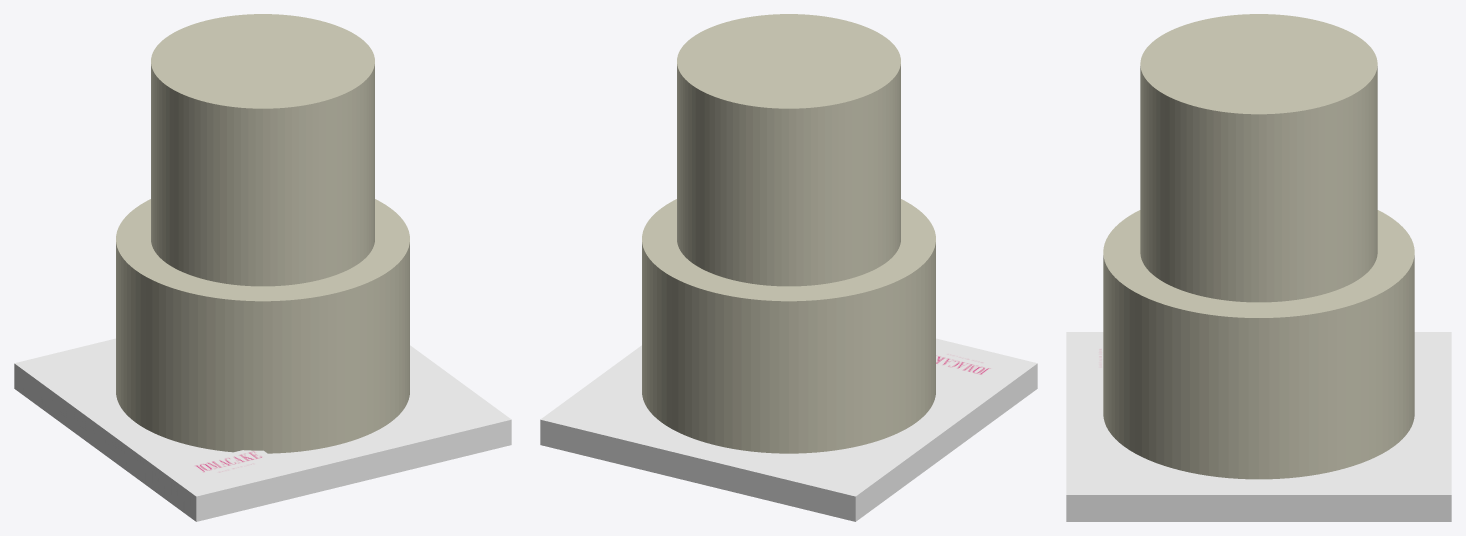
The model's file is cake_tier2_8-6_layers3_v34.glb.
3 renders of one model, left to right at view 1: azimuth 30°, elevation 25°; view 2: azimuth 150°, elevation 25°; view 3: azimuth 270°, elevation 25°, orthographic. The views are drawn at different scales.
Visible parts, largest first — view 1: Tier1, Tier0, Board, Logo; view 2: Tier1, Tier0, Board, Logo; view 3: Tier1, Tier0, Board, Logo.
Part boxes in pixels (bbox=[...]): Tier1: bbox=[151, 14, 374, 286]; Tier0: bbox=[116, 199, 409, 453]; Board: bbox=[14, 338, 511, 521]; Logo: bbox=[182, 450, 279, 480]; Tier1: bbox=[677, 14, 900, 286]; Tier0: bbox=[642, 199, 935, 453]; Board: bbox=[540, 338, 1037, 521]; Logo: bbox=[936, 346, 1007, 379]; Tier1: bbox=[1140, 14, 1377, 302]; Tier0: bbox=[1103, 210, 1414, 479]; Board: bbox=[1066, 332, 1451, 521]; Logo: bbox=[1089, 339, 1103, 377].
Bounding box in the file's own units: 0.26 × 0.28 × 0.26.
